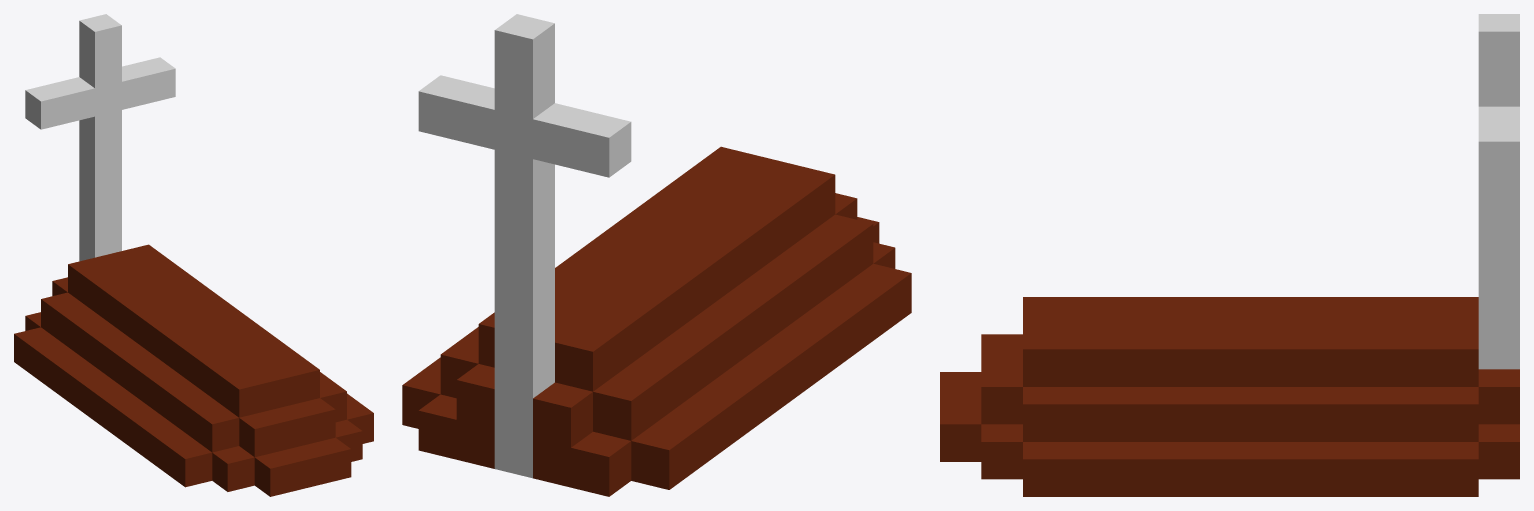
Rendered from grave02.obj.
The picture shows the model from 3 angles, left to right: view 1: azimuth 30°, elevation 25°; view 2: azimuth 150°, elevation 25°; view 3: azimuth 270°, elevation 25°; orthographic projection. The views are drawn at different scales.
Size of the model in its own units: 0.7 by 1.1 by 1.4.
Materials: 1 (1 with a texture image).
